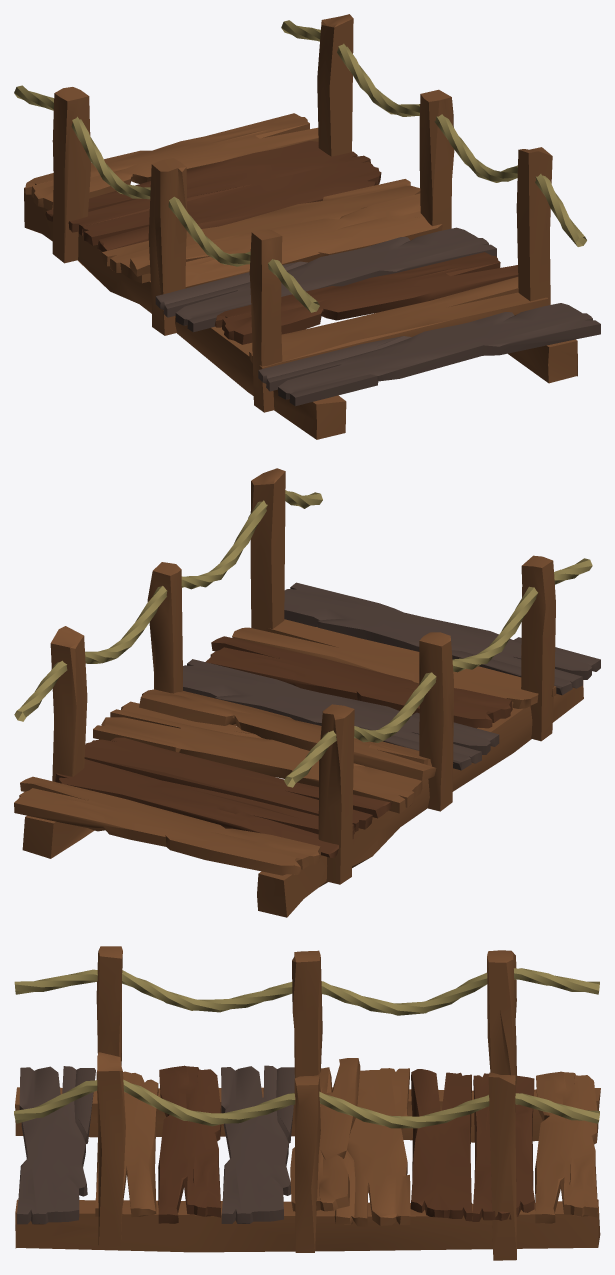
The model's file is Rough Wooden Bridge_centred mid.fbx.
3 views of the same model, one above another, from view 1: azimuth 30°, elevation 25°; view 2: azimuth 150°, elevation 25°; view 3: azimuth 270°, elevation 25° (orthographic).
Visible parts, largest first — view 1: Rough Wooden Bridge_baked; view 2: Rough Wooden Bridge_baked; view 3: Rough Wooden Bridge_baked.
Part boxes in pixels (x1,y1,x2,y2): Rough Wooden Bridge_baked: (14,14,600,439); Rough Wooden Bridge_baked: (14,468,600,917); Rough Wooden Bridge_baked: (14,946,600,1260).
Bounding box in the file's own units: 273 × 166 × 443.
